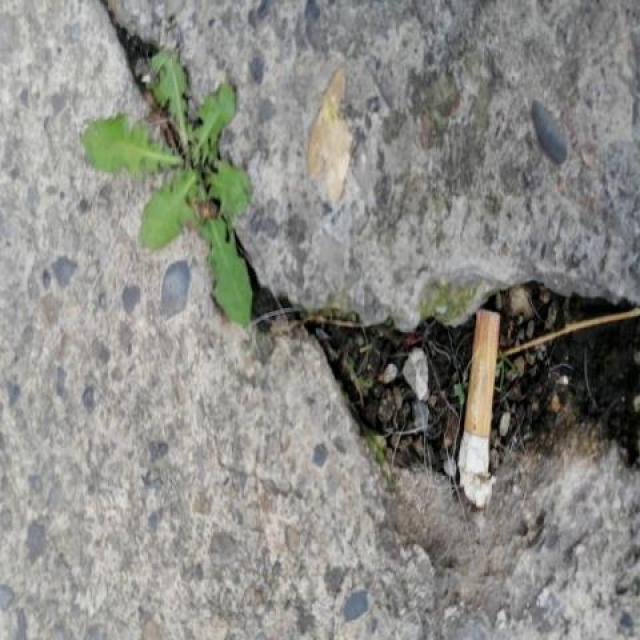non-organic waste: (451, 302, 506, 515)
